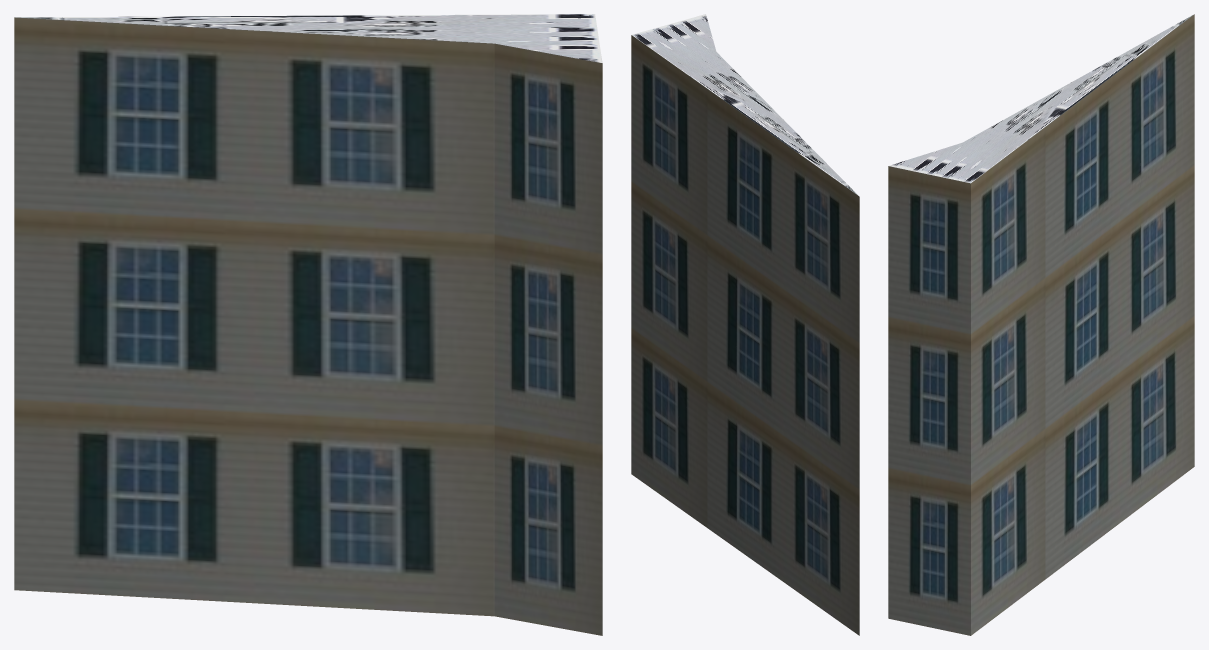
File: ResTex__2550.fbx
3 renders of one model, left to right at view 1: azimuth 30°, elevation 25°; view 2: azimuth 150°, elevation 25°; view 3: azimuth 270°, elevation 25°, orthographic. The views are drawn at different scales.
Parts seen in each view (by area): view 1: CityEngineMaterial_7_m, CityEngineMaterial_2_m; view 2: CityEngineMaterial_7_m, CityEngineMaterial_2_m; view 3: CityEngineMaterial_7_m, CityEngineMaterial_2_m.
Part boxes in pixels (bbox=[...]): CityEngineMaterial_7_m: bbox=[14, 17, 602, 635]; CityEngineMaterial_2_m: bbox=[15, 14, 602, 62]; CityEngineMaterial_7_m: bbox=[631, 35, 859, 635]; CityEngineMaterial_2_m: bbox=[632, 14, 858, 195]; CityEngineMaterial_7_m: bbox=[888, 14, 1194, 635]; CityEngineMaterial_2_m: bbox=[889, 15, 1192, 183].
Bounding box in the file's own units: 7.22 × 9 × 5.52.
2 materials, 2 textured.
